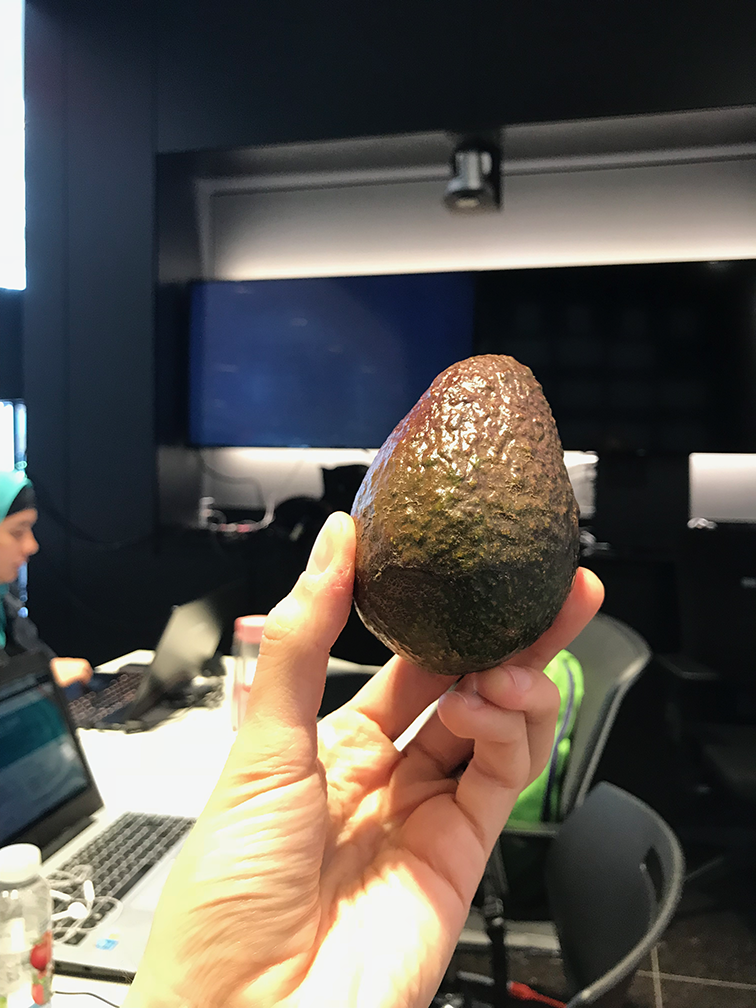avocado: (337, 354, 581, 676)
